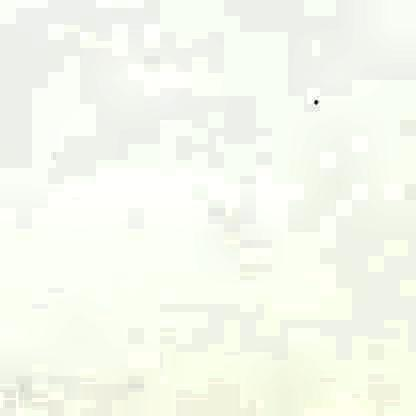golfball: (310, 95, 317, 102)
